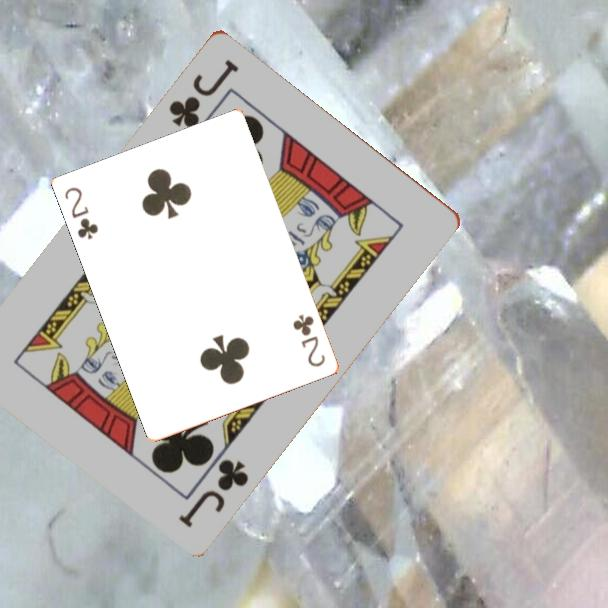c02: (61, 184, 102, 243), (290, 311, 329, 370)
c11: (164, 55, 242, 131), (175, 454, 252, 530)
